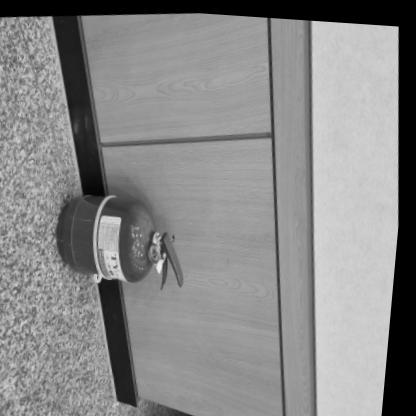FE: (52, 186, 195, 296)
